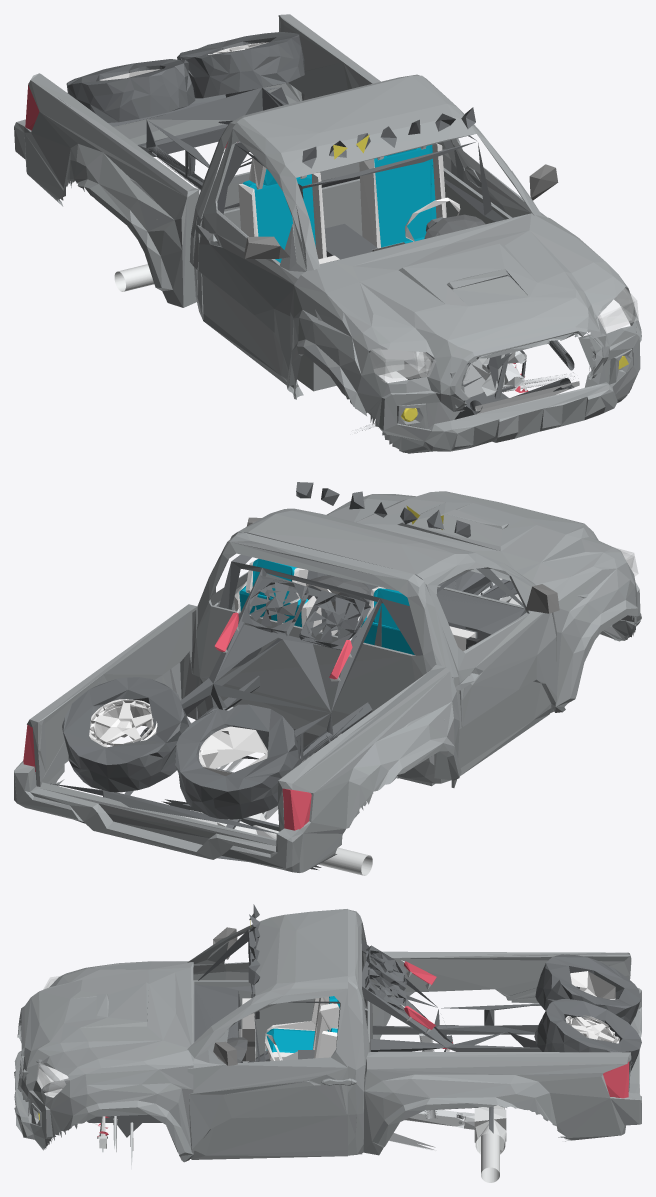
File: truck-lo.glb
The picture shows the model from 3 angles, top to bottom: view 1: azimuth 30°, elevation 25°; view 2: azimuth 150°, elevation 25°; view 3: azimuth 270°, elevation 25°; orthographic projection. The views are drawn at different scales.
Visible parts, largest first — view 1: Object_63, Object_42, Object_61, Object_68, Object_10, Object_16, Object_21, Object_6, Object_5; view 2: Object_63, Object_42, Object_36, Object_61, Object_24, Object_21, Object_68, Object_6, Object_5; view 3: Object_63, Object_42, Object_21, Object_68, Object_12, Object_36, Object_24, Object_61, Object_10, Object_6, Object_40.
Part boxes in pixels (<box>): Object_63: <box>14,14,641,453</box>; Object_42: <box>66,32,574,419</box>; Object_61: <box>242,145,436,262</box>; Object_68: <box>238,143,446,258</box>; Object_10: <box>369,288,638,382</box>; Object_16: <box>414,351,526,397</box>; Object_21: <box>114,264,579,413</box>; Object_6: <box>244,164,558,258</box>; Object_5: <box>424,214,485,238</box>; Object_63: <box>14,491,641,872</box>; Object_42: <box>50,482,525,869</box>; Object_36: <box>89,699,267,775</box>; Object_61: <box>239,558,414,654</box>; Object_24: <box>23,612,352,830</box>; Object_21: <box>181,578,522,875</box>; Object_68: <box>234,561,385,631</box>; Object_6: <box>246,517,559,613</box>; Object_5: <box>306,575,369,601</box>; Object_63: <box>14,909,641,1162</box>; Object_42: <box>39,904,641,1137</box>; Object_21: <box>37,1048,506,1182</box>; Object_68: <box>255,996,339,1060</box>; Object_12: <box>113,971,474,1169</box>; Object_36: <box>565,971,619,1043</box>; Object_24: <box>97,961,629,1136</box>; Object_61: <box>266,996,339,1052</box>; Object_10: <box>37,976,69,1095</box>; Object_6: <box>213,927,237,1065</box>; Object_40: <box>242,998,282,1060</box>.
Bounding box in the file's own units: 2.66 × 2.01 × 5.55.
